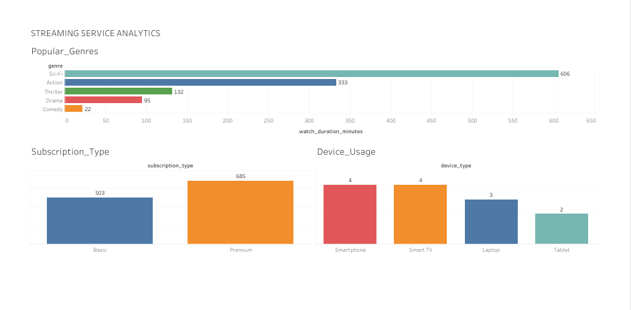

Layout of this report page (visuals, bound fields, positions):
{"tool":"tableau","page":{"name":"Platform_Usage_Overview","canvas":[1000,1000],"units":"permille","ordinal":0},"visuals":[{"type":"title","box":[6.1,14.8,987.8,59.4]},{"type":"worksheet","title":"Popular_Genres","mark":"Automatic","rows":["genre"],"cols":["watch_duration_minutes"],"box":[6.1,74.2,987.8,424.9]},{"type":"worksheet","title":"Subscription_Type","mark":"Automatic","rows":["watch_duration_minutes"],"cols":["subscription_type"],"box":[6.1,499.1,493.9,486.1]},{"type":"worksheet","title":"Device_Usage","mark":"Automatic","rows":["Watch_Events.csv_0D907C864DA5427CA82F26BA387E9403"],"cols":["device_type"],"box":[500,499.1,493.9,486.1]}]}

Visuals, with their boxes on the dashboard's canvas, which has no fixed pixel size, in thousandths of its width and height (x1, y1, x2, y2). These are canvas units, not pixel positions in the 631x310 screenshot, which may show the page scaled, cropped or inside an application window:
title: bbox=(6, 15, 994, 74)
"Popular_Genres" worksheet: bbox=(6, 74, 994, 499)
"Subscription_Type" worksheet: bbox=(6, 499, 500, 985)
"Device_Usage" worksheet: bbox=(500, 499, 994, 985)
